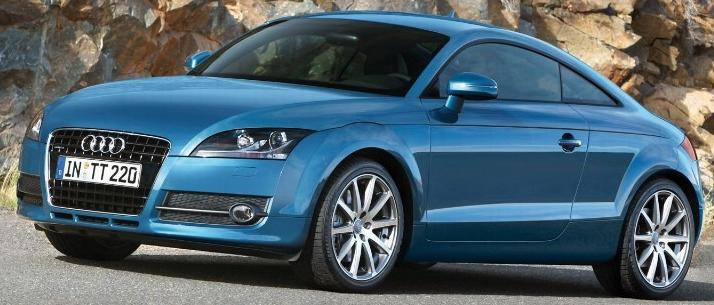front_view: (14, 98, 313, 250)
headlight: (196, 120, 315, 170)
side_glass: (426, 34, 623, 110)
